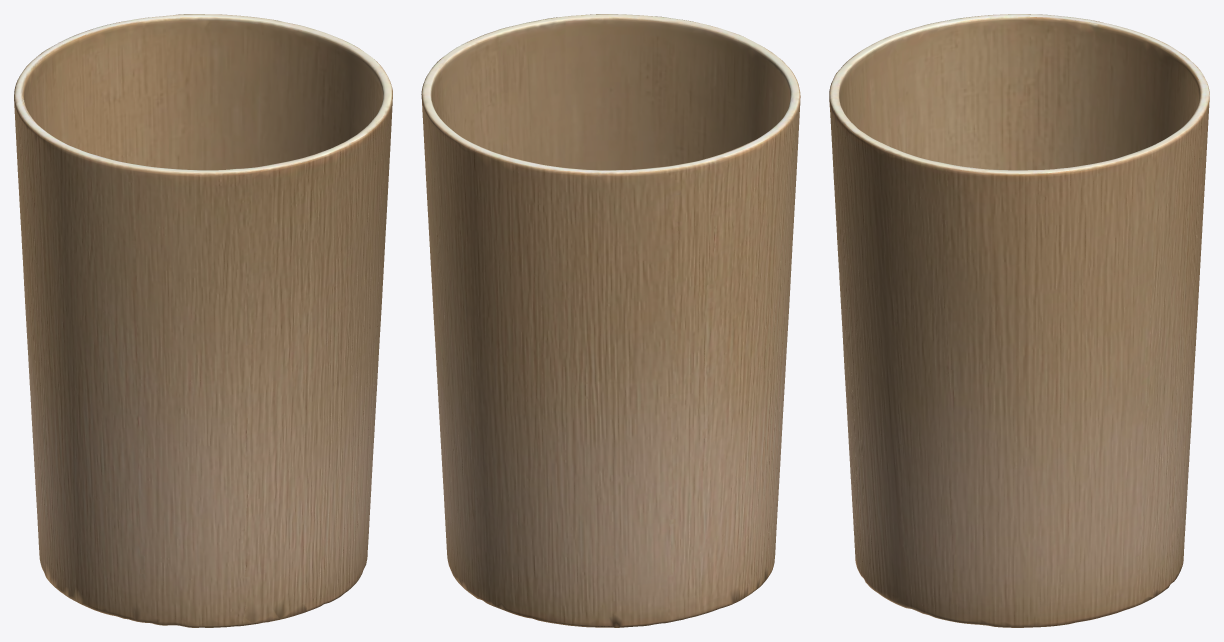
File: wood-bin.glb
3 views of the same model, side by side, from view 1: azimuth 30°, elevation 25°; view 2: azimuth 150°, elevation 25°; view 3: azimuth 270°, elevation 25° (orthographic).
Visible parts, largest first — view 1: tripo_node_7df775a4-2594-4bb2-896f-2f44541b9dff; view 2: tripo_node_7df775a4-2594-4bb2-896f-2f44541b9dff; view 3: tripo_node_7df775a4-2594-4bb2-896f-2f44541b9dff.
Boxes of the visible parts, x1=… form: tripo_node_7df775a4-2594-4bb2-896f-2f44541b9dff: x1=14, y1=14, x2=392, y2=627; tripo_node_7df775a4-2594-4bb2-896f-2f44541b9dff: x1=421, y1=14, x2=800, y2=627; tripo_node_7df775a4-2594-4bb2-896f-2f44541b9dff: x1=829, y1=14, x2=1209, y2=627.
Bounding box in the file's own units: 0.2349 × 0.3174 × 0.235.
1 material, 1 textured.
